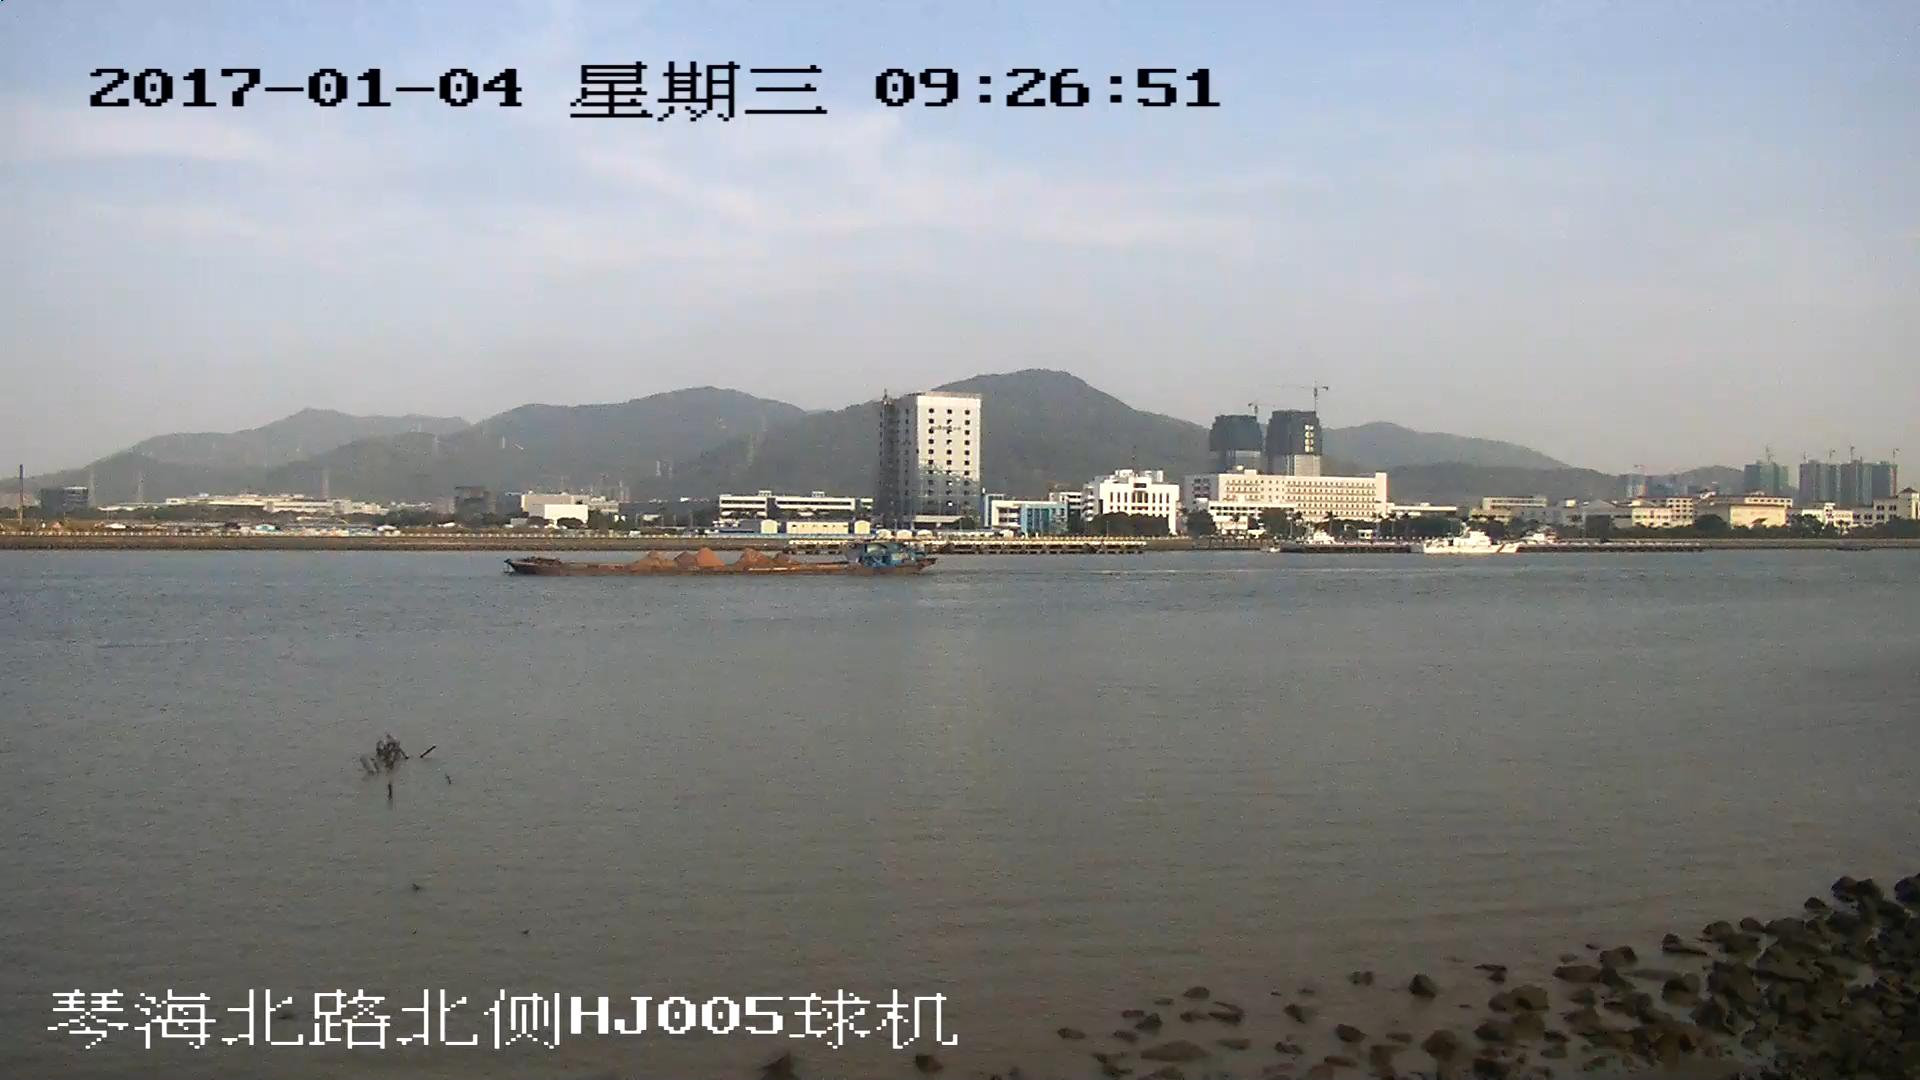ore carrier: (503, 537, 938, 575)
